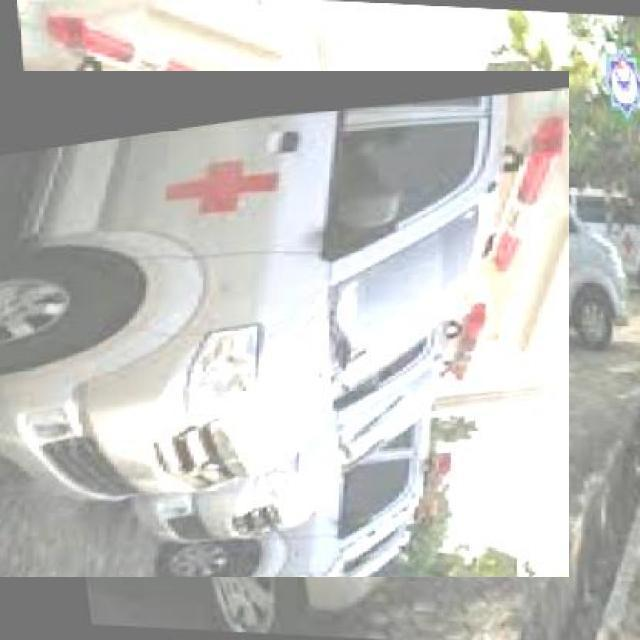emergency-vehicle: (0, 40, 538, 608)
